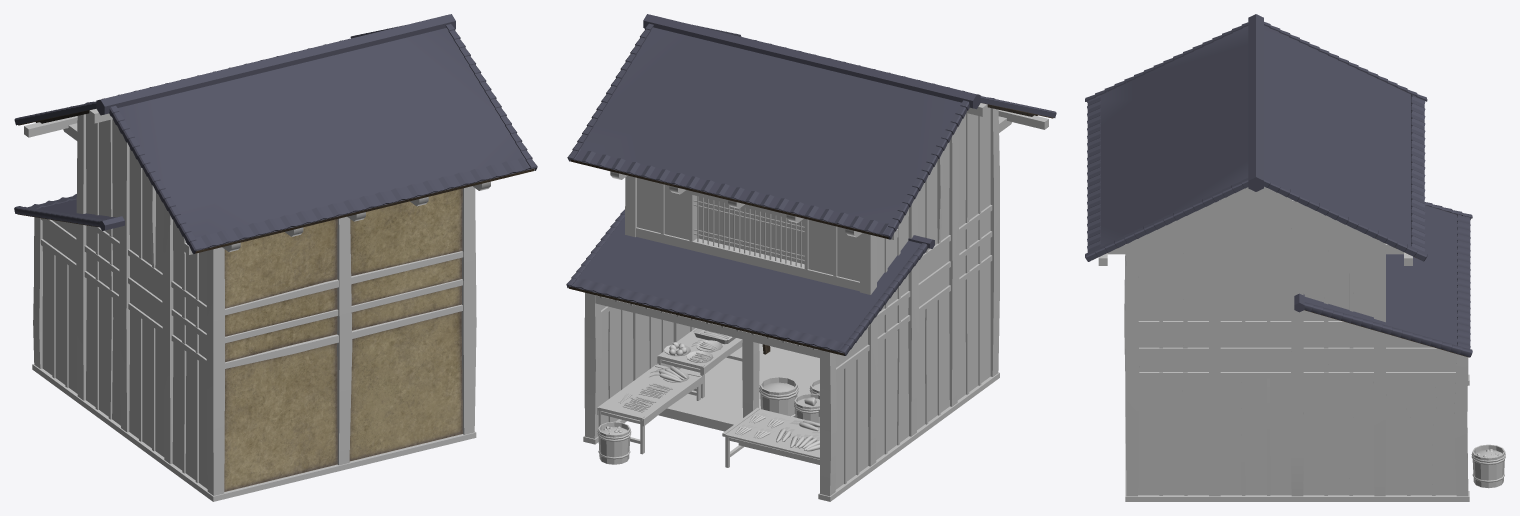
File: m_house6.fbx
3 renders of one model, left to right at view 1: azimuth 30°, elevation 25°; view 2: azimuth 150°, elevation 25°; view 3: azimuth 270°, elevation 25°, orthographic. The views are drawn at different scales.
Visible parts, largest first — view 1: mesh_house6_LOD0; view 2: mesh_house6_LOD0; view 3: mesh_house6_LOD0.
Part boxes in pixels (x1,y1,x2,y2): mesh_house6_LOD0: [14, 14, 537, 501]; mesh_house6_LOD0: [566, 14, 1056, 501]; mesh_house6_LOD0: [1085, 14, 1505, 501].
Size of what is drawn, in the model's own units: 7.01 by 6.92 by 7.65.
